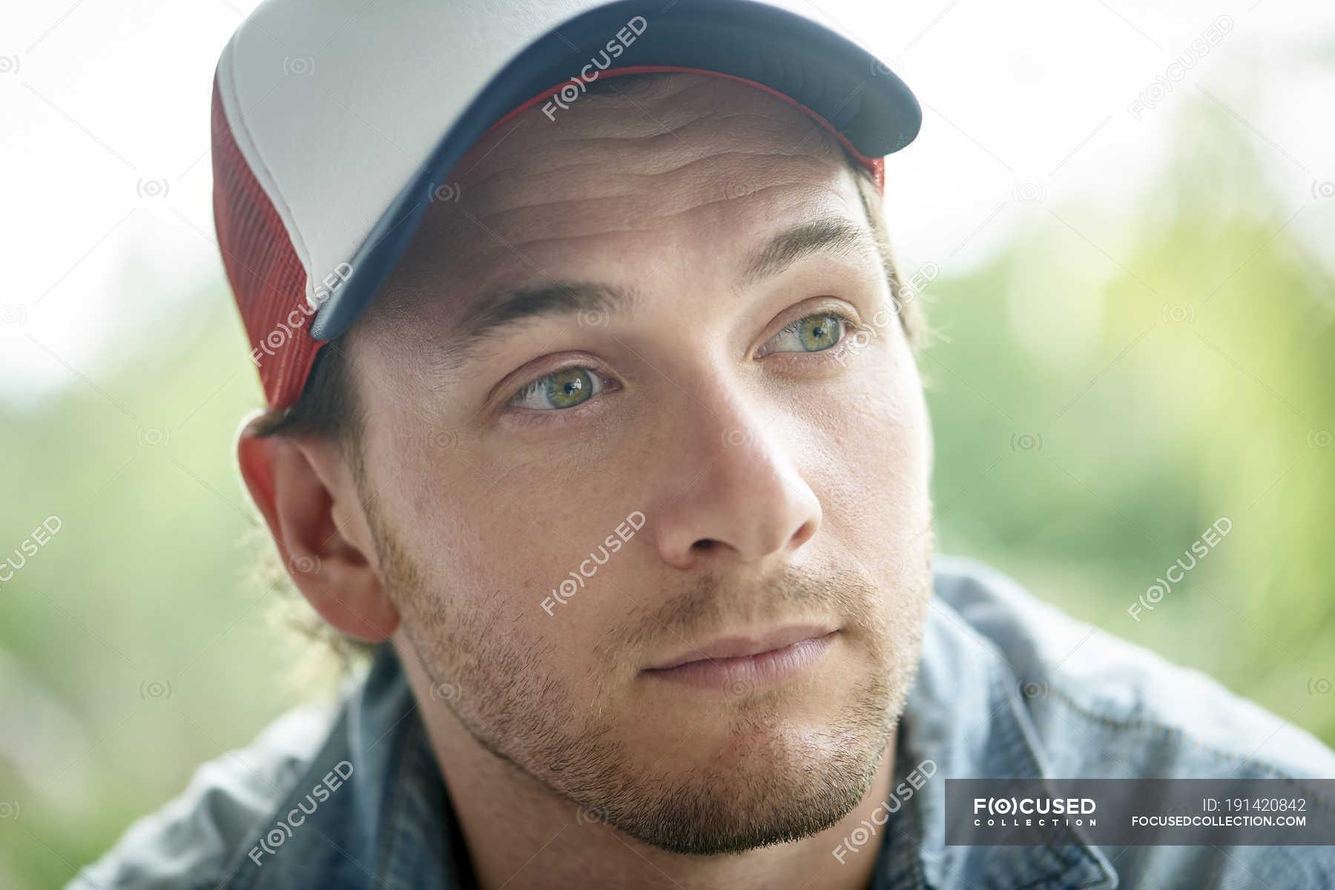cap: (148, 0, 932, 397)
